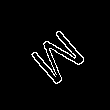M_SE: (21, 21, 89, 89)
